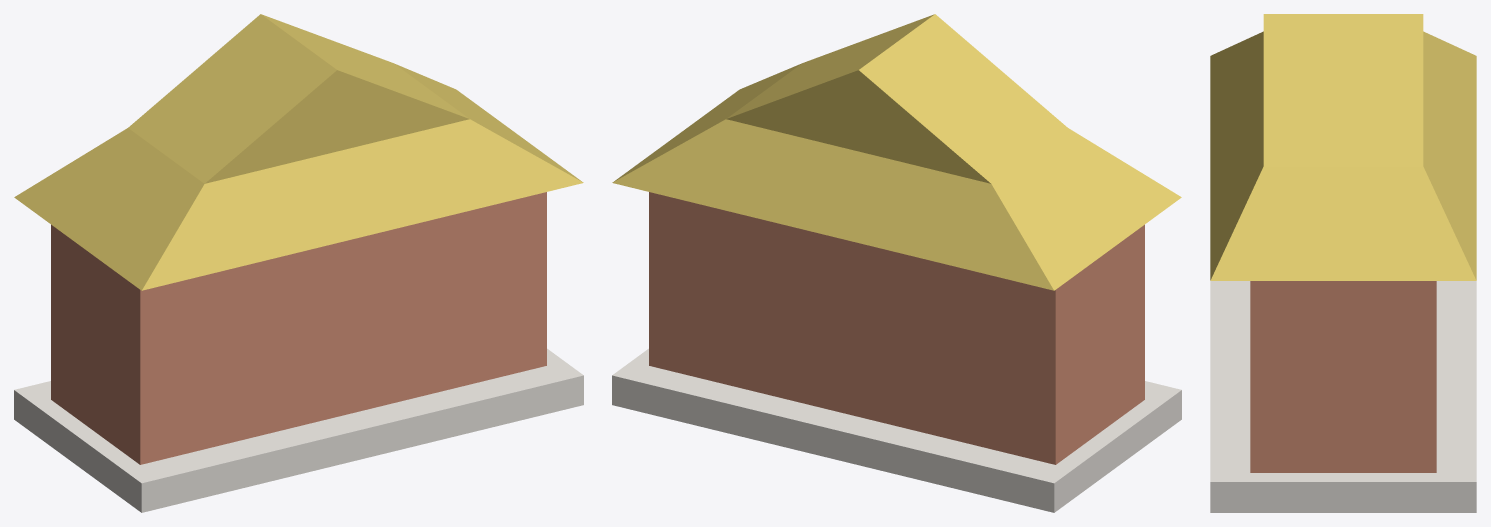
3 views of the same model, side by side, from view 1: azimuth 30°, elevation 25°; view 2: azimuth 150°, elevation 25°; view 3: azimuth 270°, elevation 25° (orthographic). The views are drawn at different scales.
Visible parts, largest first — view 1: body, roof, platform; view 2: body, roof, platform; view 3: roof, body, platform.
Part boxes in pixels (x1=…): body: x1=51, y1=192, x2=546, y2=464; roof: x1=14, y1=14, x2=583, y2=290; platform: x1=14, y1=348, x2=583, y2=512; body: x1=649, y1=192, x2=1144, y2=464; roof: x1=612, y1=14, x2=1181, y2=290; platform: x1=612, y1=348, x2=1181, y2=512; roof: x1=1210, y1=14, x2=1476, y2=280; body: x1=1250, y1=281, x2=1436, y2=472; platform: x1=1210, y1=281, x2=1476, y2=512.
Size of the model in its own units: 5 by 4 by 2.5.
